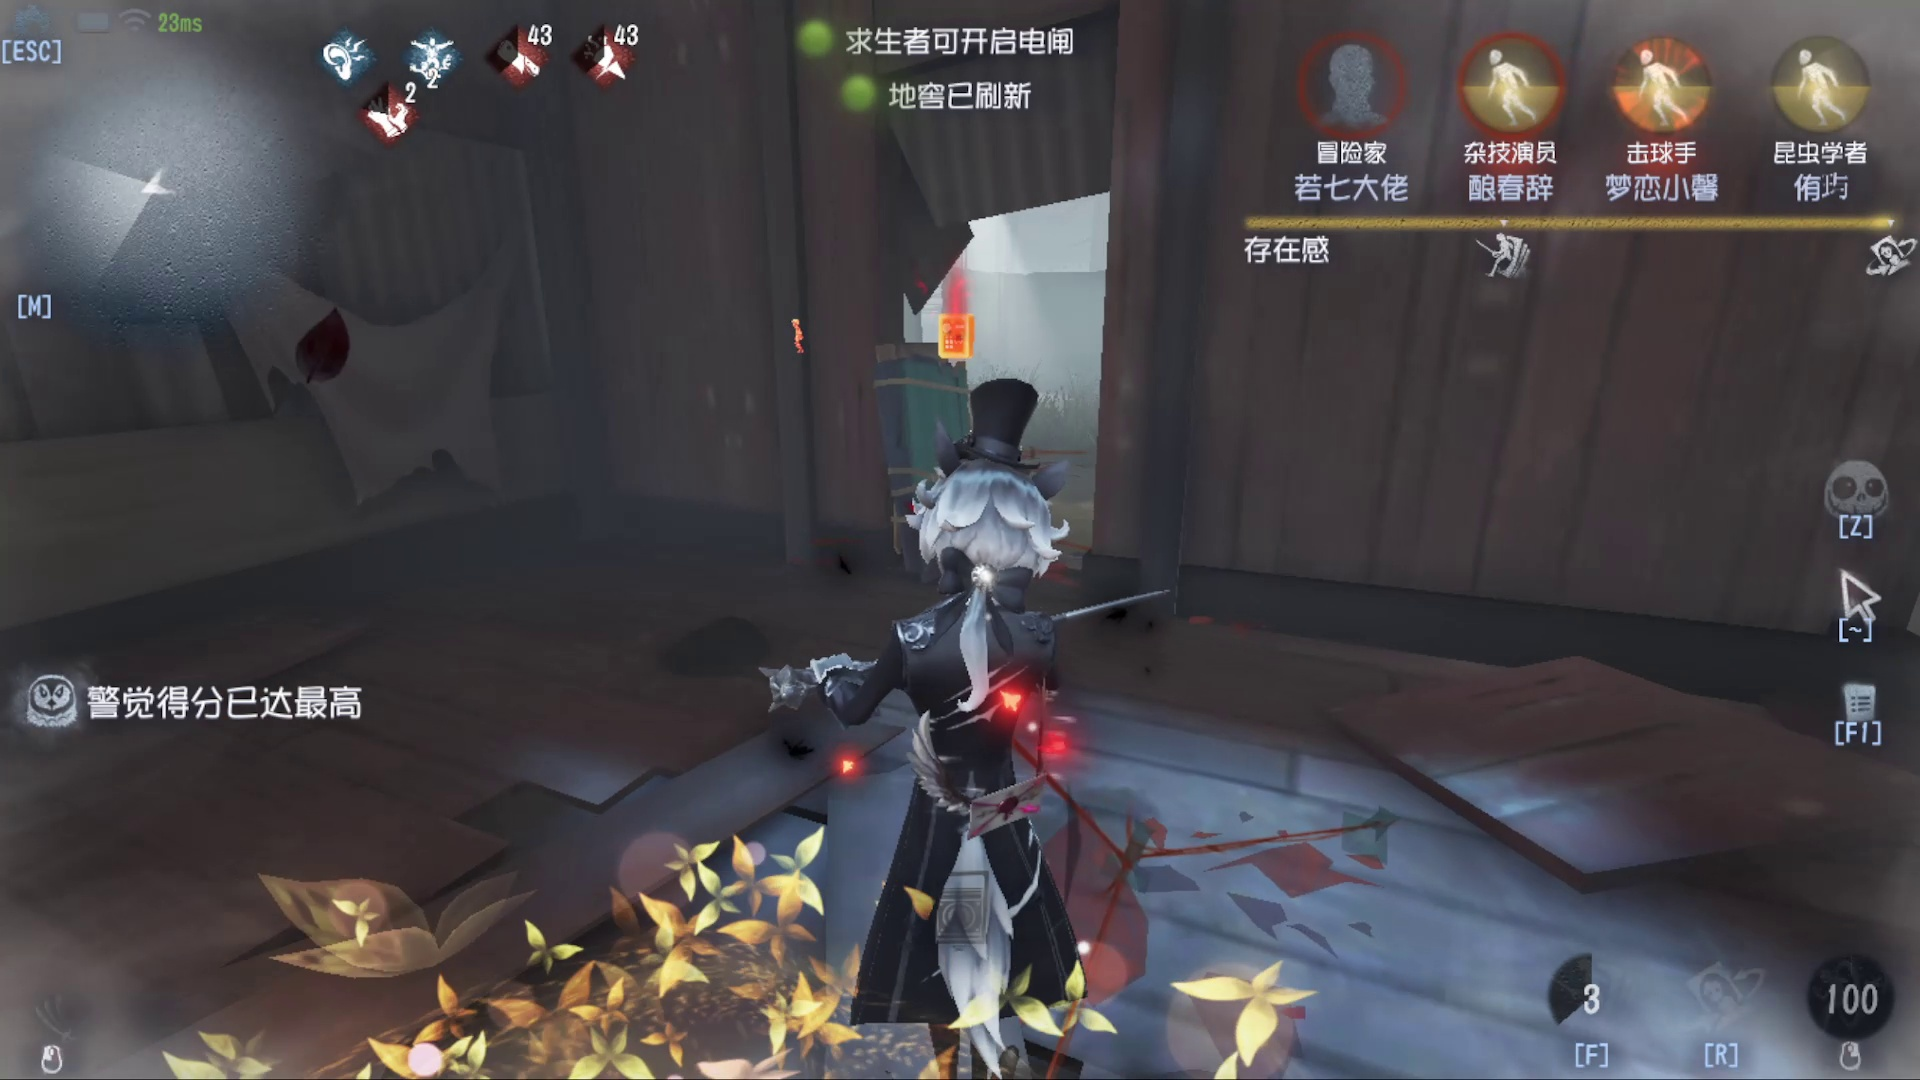木板: (856, 324, 1011, 578)
求生者: (756, 294, 829, 386)
